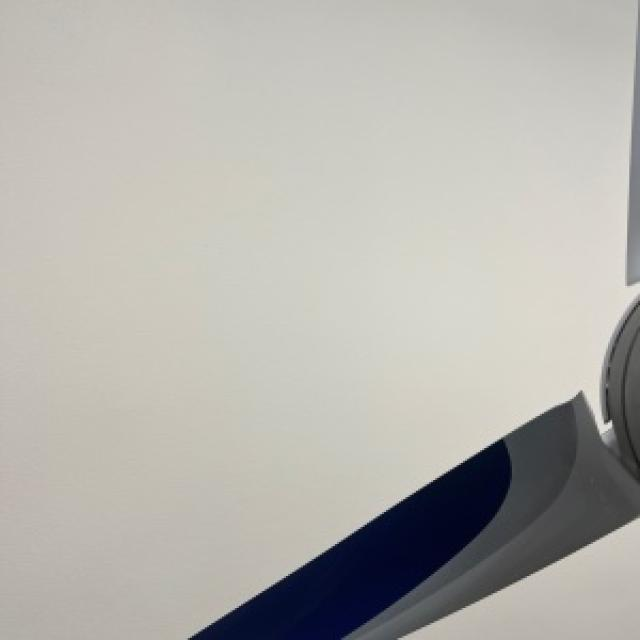healthy: (431, 523, 638, 638)
